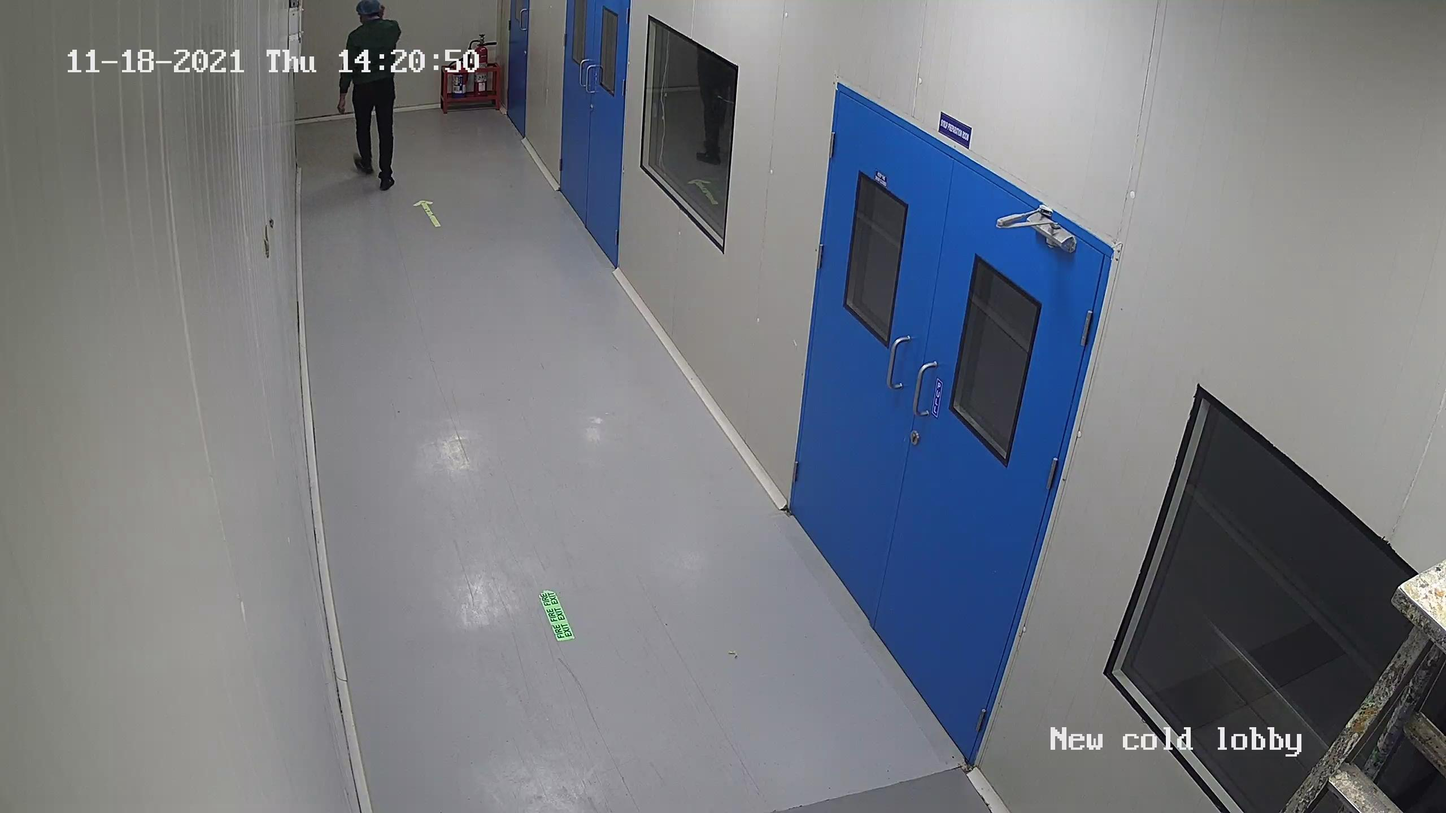lizard: (256, 218, 275, 264)
